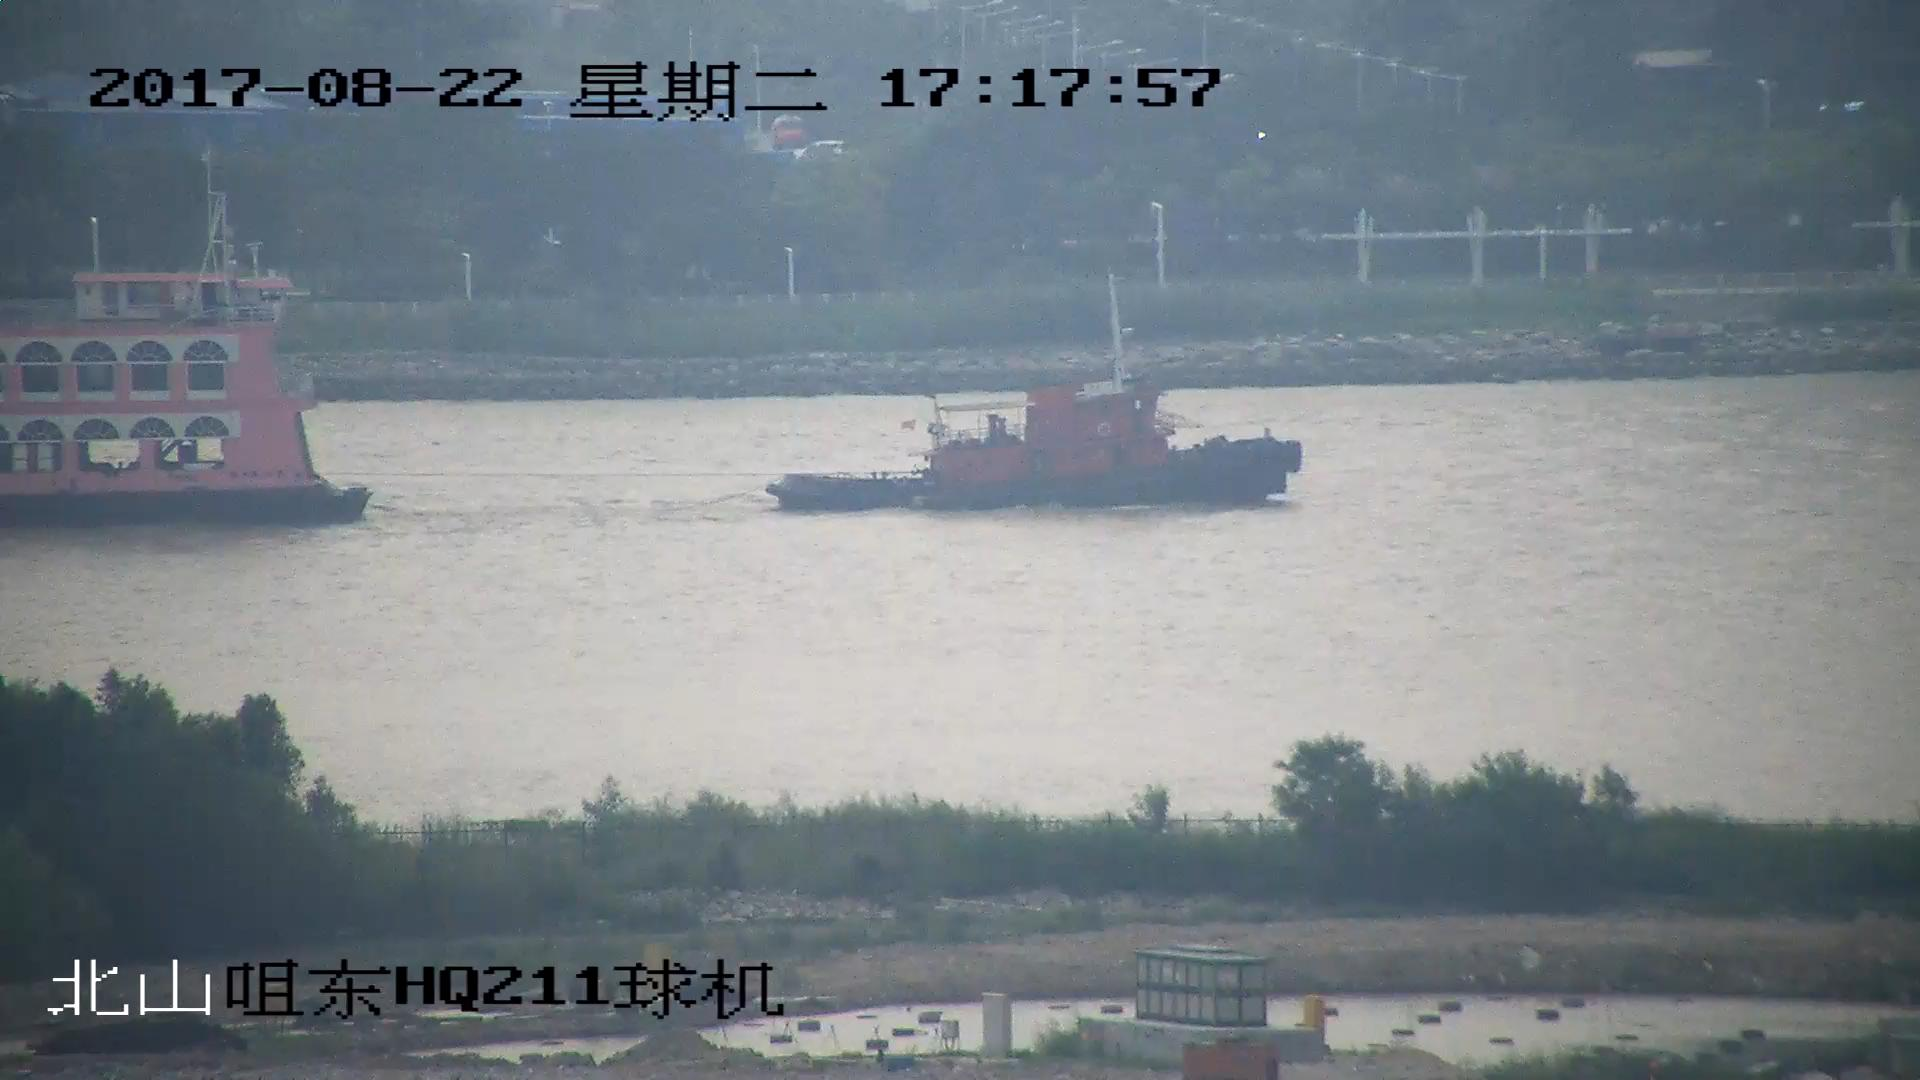fishing boat: (763, 279, 1305, 509)
passenger ship: (1, 152, 369, 529)
